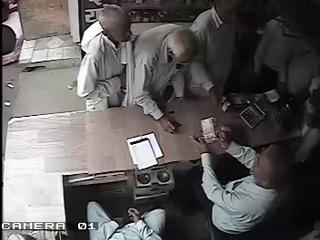Normal: (192, 129, 294, 240), (124, 24, 203, 134), (188, 0, 254, 102), (87, 200, 166, 240)
shoplifting: (76, 4, 132, 111)
